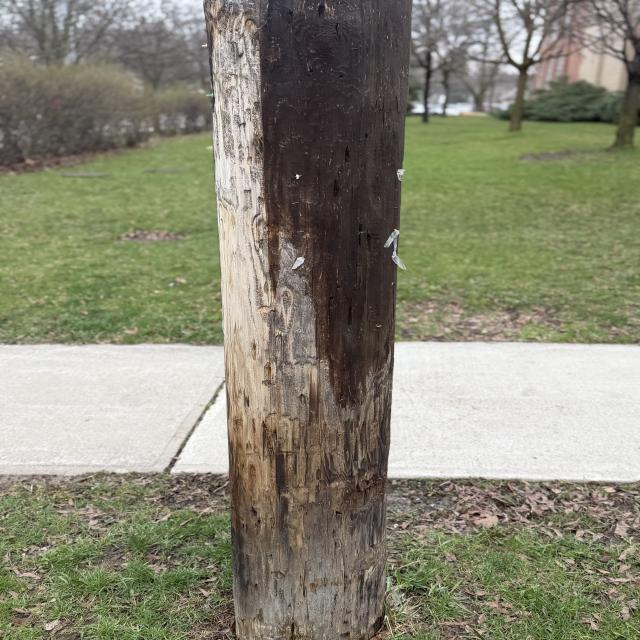Electrical Pole: (207, 0, 425, 640)
